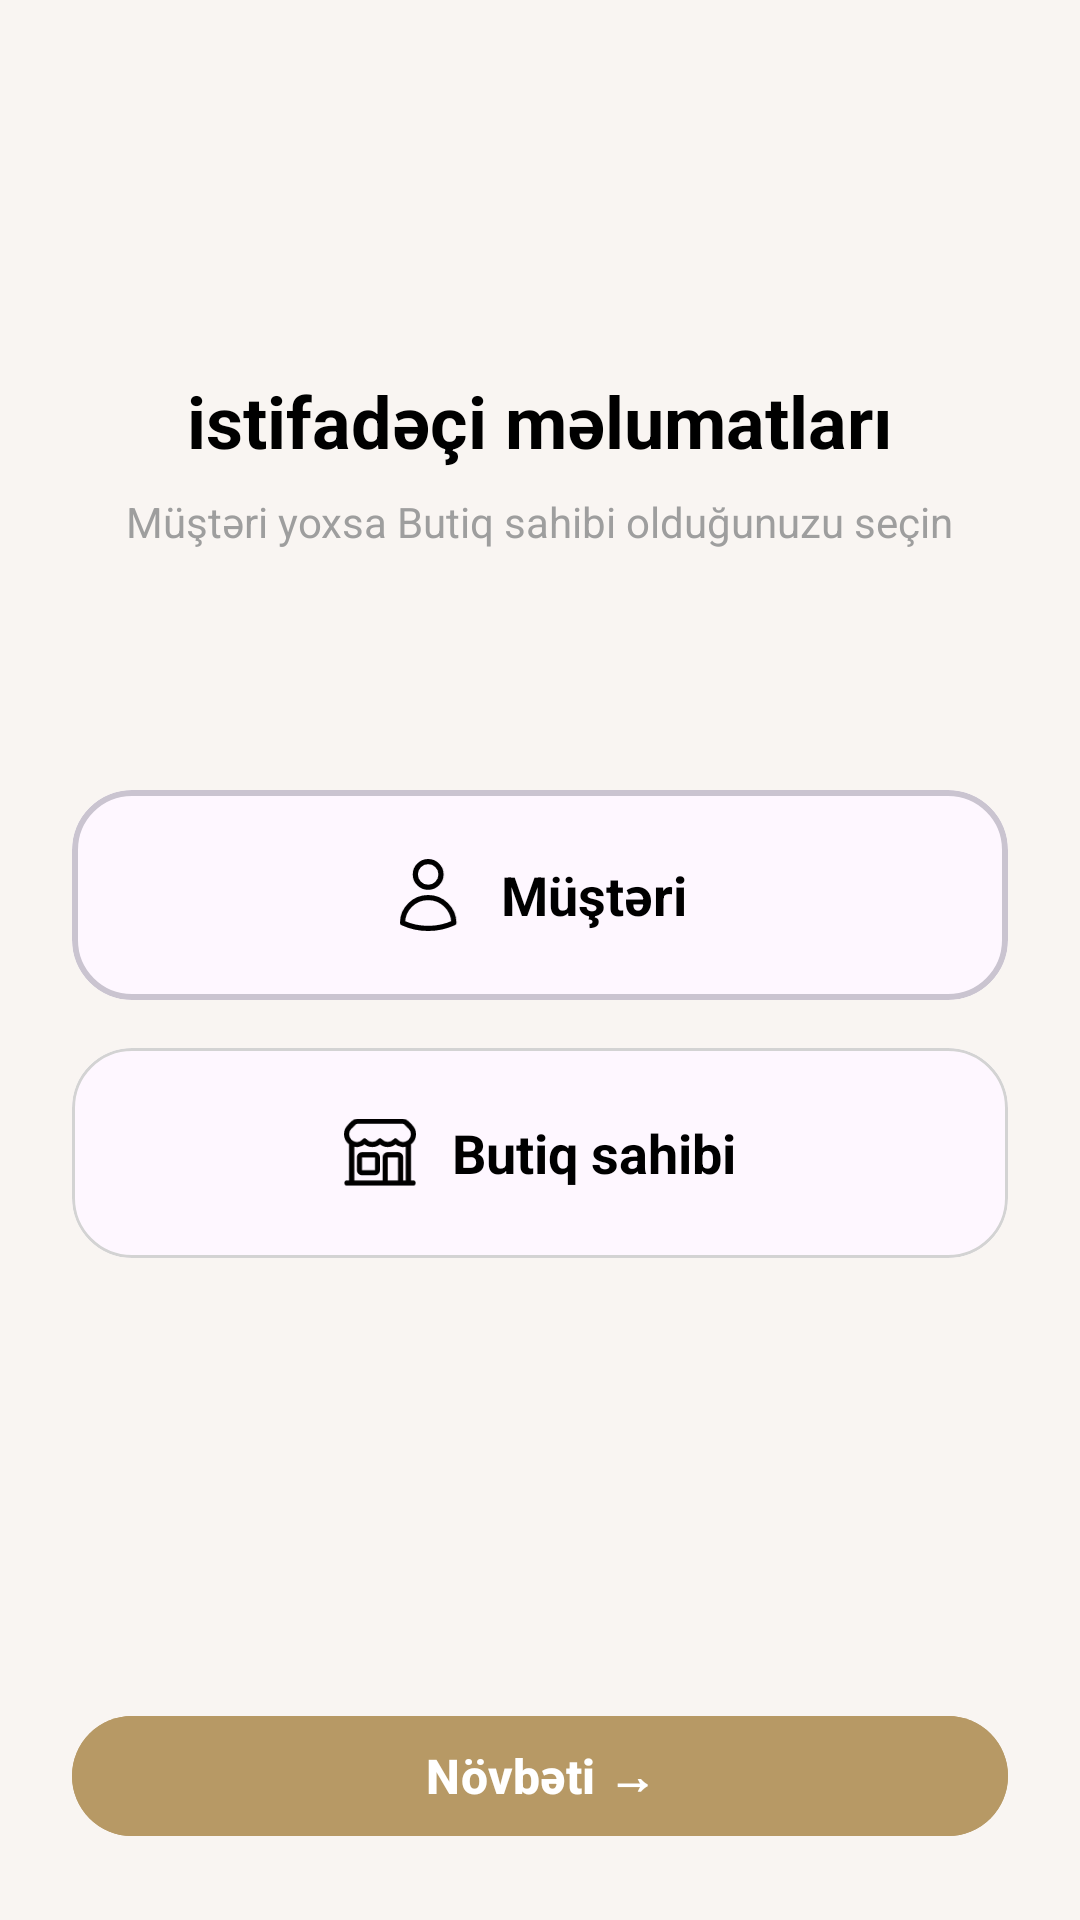

Icons on this 1080px×1920px Android screen, each with its box as box(x1, y1, x2, y2):
botique: box(344, 1119, 416, 1186)
user: box(400, 859, 457, 931)
